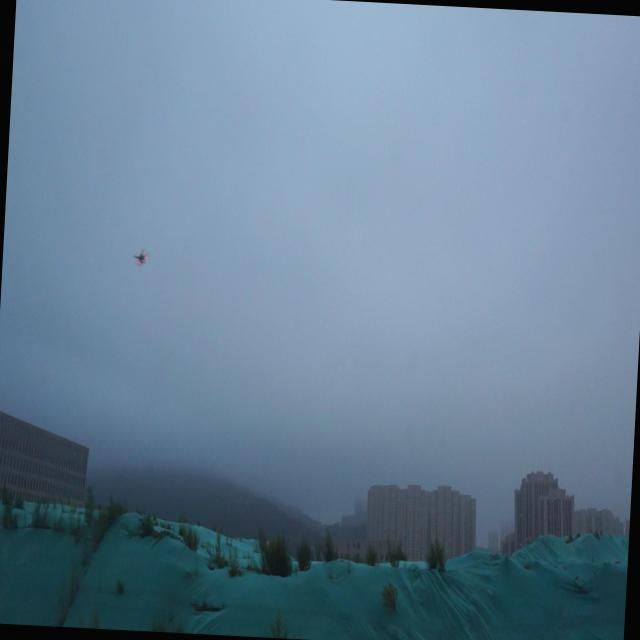drone: (132, 246, 152, 270)
